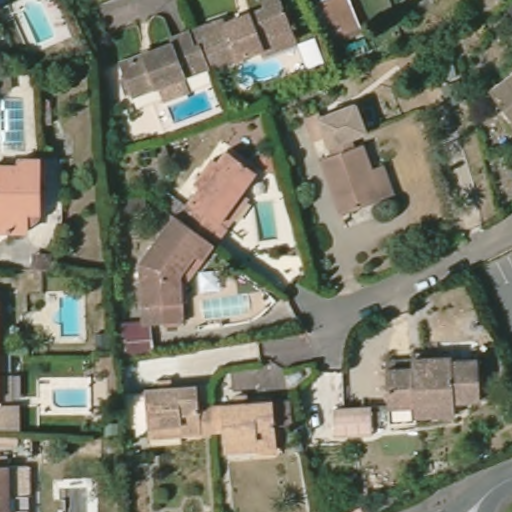pool: (195, 287, 254, 323), (1, 93, 34, 155), (52, 290, 88, 345), (14, 1, 58, 44), (232, 56, 287, 90), (165, 91, 220, 125), (246, 197, 285, 244), (44, 381, 90, 408)
